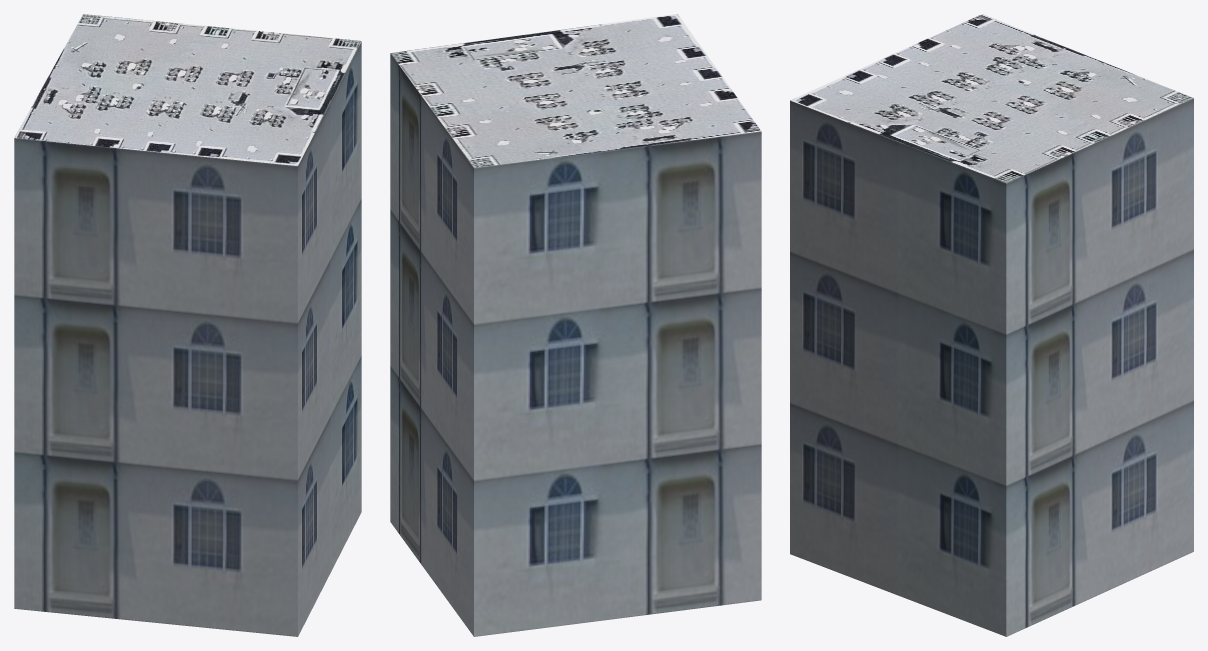
File: ResTex__3149.fbx
3 renders of one model, left to right at view 1: azimuth 30°, elevation 25°; view 2: azimuth 150°, elevation 25°; view 3: azimuth 270°, elevation 25°, orthographic. The views are drawn at different scales.
Parts seen in each view (by area): view 1: CityEngineMaterial_17_m, CityEngineMaterial_8_m; view 2: CityEngineMaterial_17_m, CityEngineMaterial_8_m; view 3: CityEngineMaterial_17_m, CityEngineMaterial_8_m.
Boxes of the visible parts, x1,y1,x2,y2 form: CityEngineMaterial_17_m: (14,42,361,636); CityEngineMaterial_8_m: (14,14,361,165); CityEngineMaterial_17_m: (390,53,761,636); CityEngineMaterial_8_m: (390,14,761,167); CityEngineMaterial_17_m: (790,98,1193,636); CityEngineMaterial_8_m: (790,14,1193,183).
Bounding box in the file's own units: 7.2 × 9 × 7.26.
Materials: 2 (2 with a texture image).
